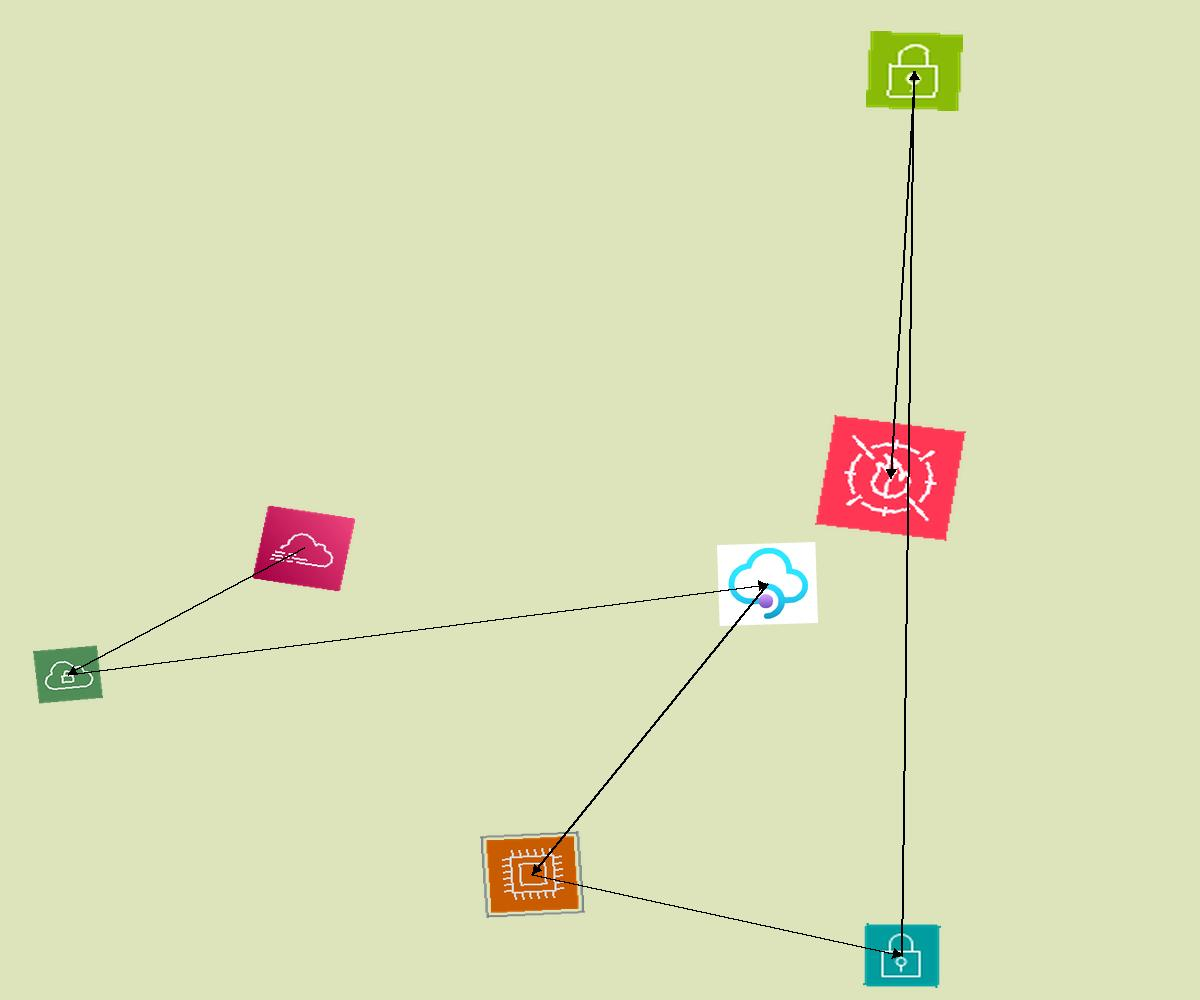AWS-Category_Compute: (480, 831, 585, 918)
AWS-CloudTrail: (252, 505, 356, 592)
AWS-Private-subnet: (863, 923, 941, 988)
AWS-Private_vpc: (33, 645, 103, 704)
AWS-Public-subnet: (866, 31, 963, 111)
AWS-WAF: (815, 415, 966, 541)
Azure_api_gateway: (717, 542, 818, 626)
